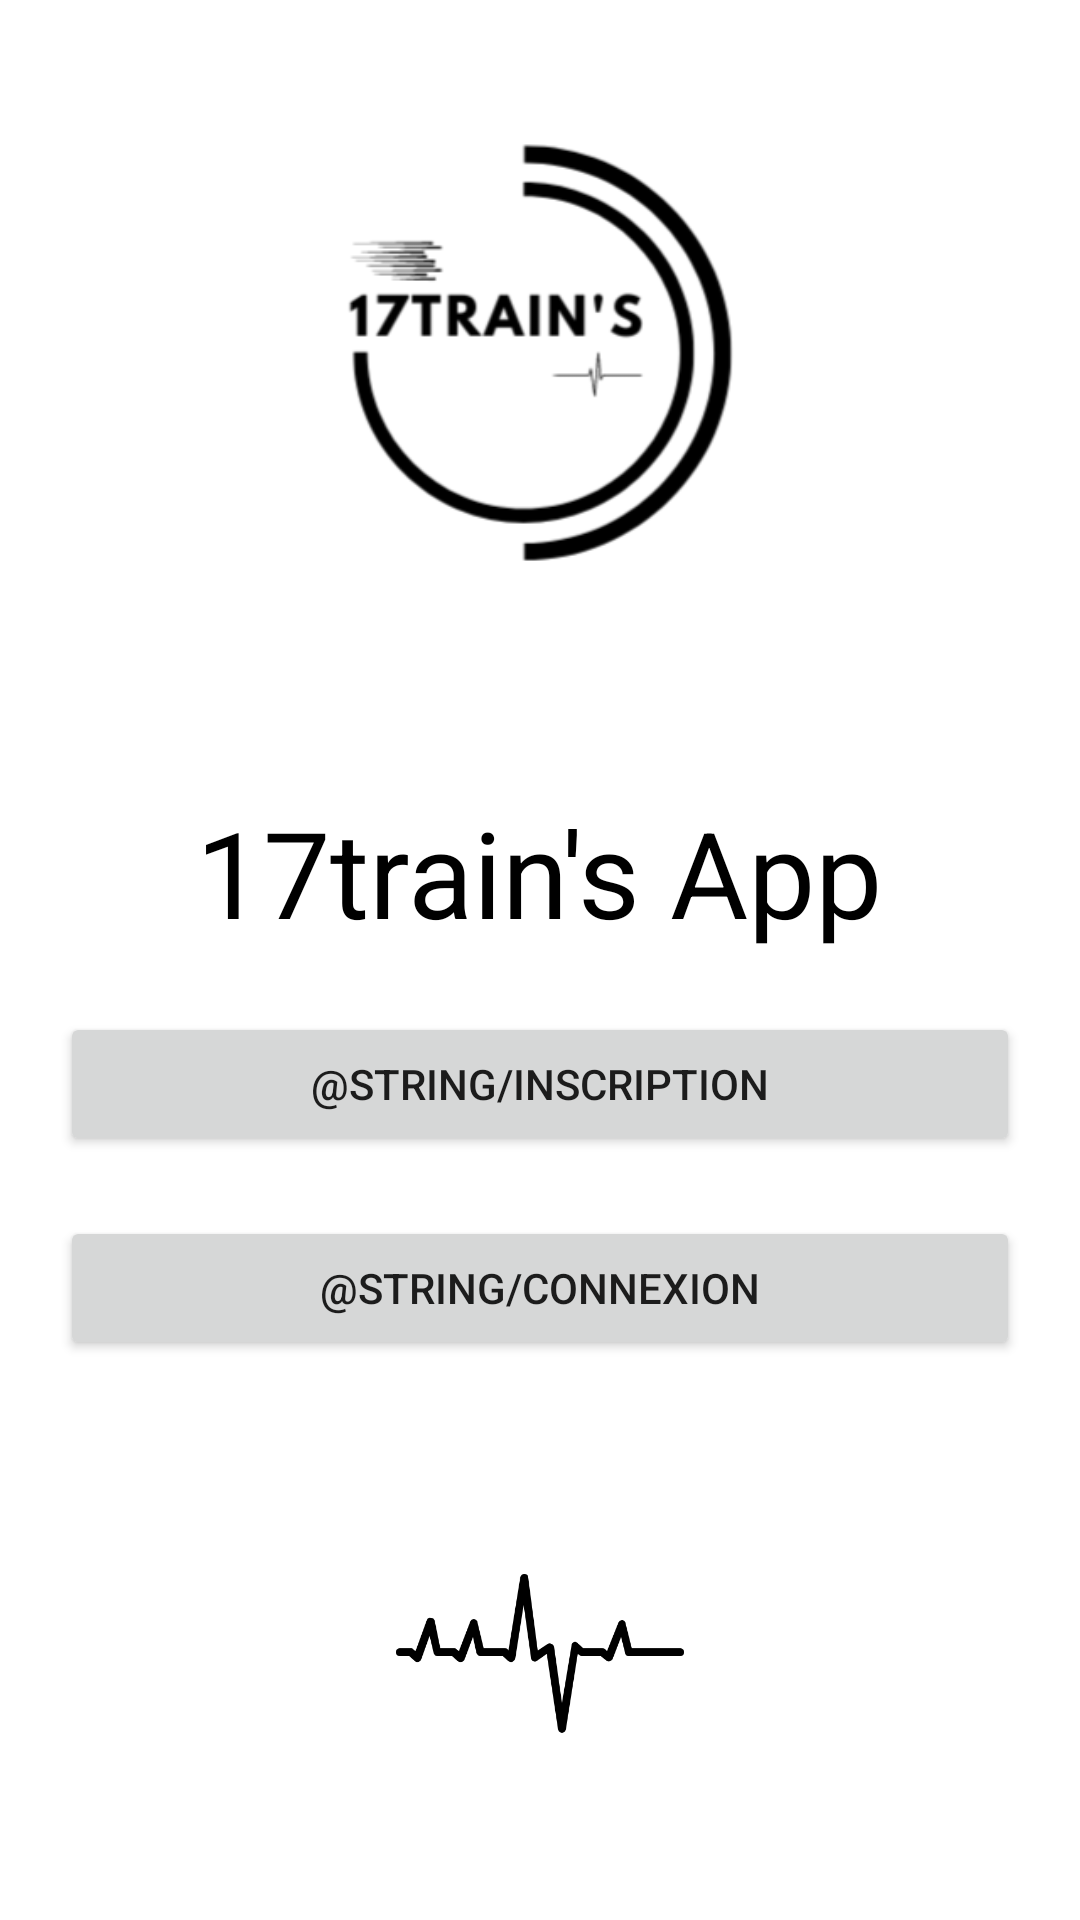

Icons on this 1080px×1920px Android screen, each with its box as (x1, y1, x2, y2):
rythme cardiaque: (396, 1574, 684, 1733)
